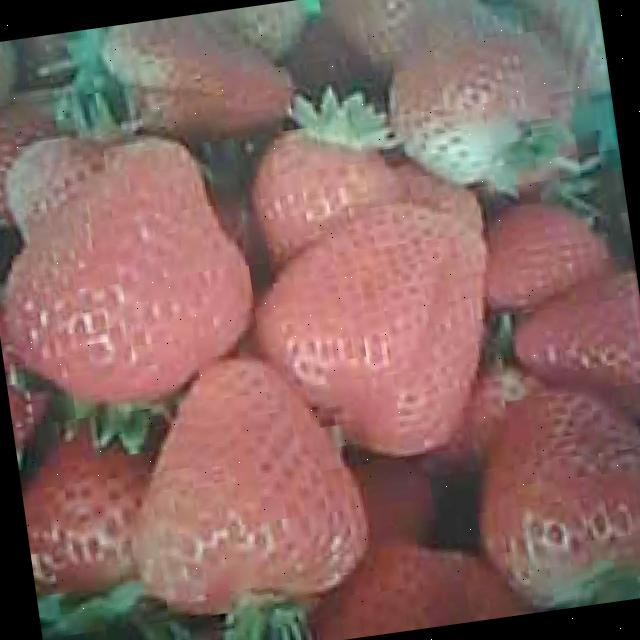strawberry: (0, 130, 260, 421), (242, 204, 511, 476), (110, 348, 371, 626), (463, 375, 640, 615)
